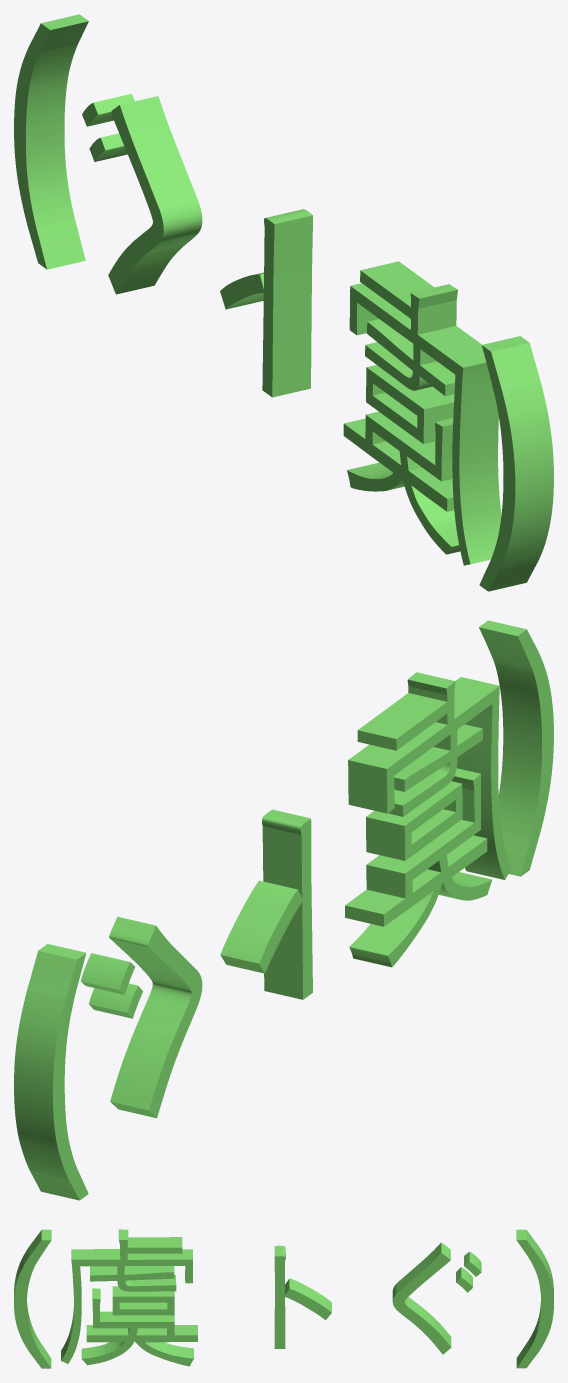
File: scrittagiappo.gltf
The picture shows the model from 3 angles, top to bottom: view 1: azimuth 30°, elevation 25°; view 2: azimuth 150°, elevation 25°; view 3: azimuth 270°, elevation 25°; orthographic projection. The views are drawn at different scales.
Visible parts, largest first — view 1: kajni; view 2: kajni; view 3: kajni.
Boxes of the visible parts, bbox=[...] form: kajni: bbox=[14, 14, 553, 591]; kajni: bbox=[14, 620, 553, 1200]; kajni: bbox=[14, 1229, 553, 1368].
Size of the model in its own units: 0.9419 by 5.09 by 19.2.
